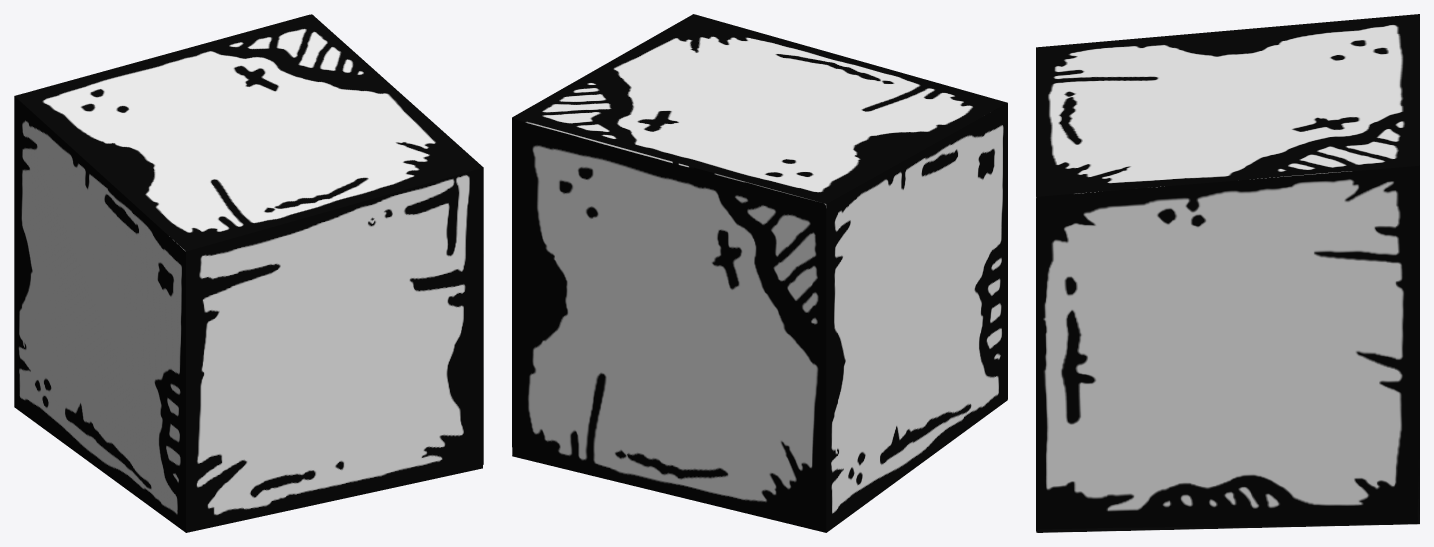
File: Cube_Textured_embeded.fbx
The picture shows the model from 3 angles, left to right: view 1: azimuth 30°, elevation 25°; view 2: azimuth 150°, elevation 25°; view 3: azimuth 270°, elevation 25°; orthographic projection. The views are drawn at different scales.
Parts seen in each view (by area): view 1: Cube; view 2: Cube; view 3: Cube.
Boxes of the visible parts, <box> form: Cube: <box>14,14,483,532</box>; Cube: <box>512,14,1007,532</box>; Cube: <box>1036,14,1419,532</box>.
Size of the model in its own units: 37.58 by 39.66 by 37.58.
1 material, 1 textured.
